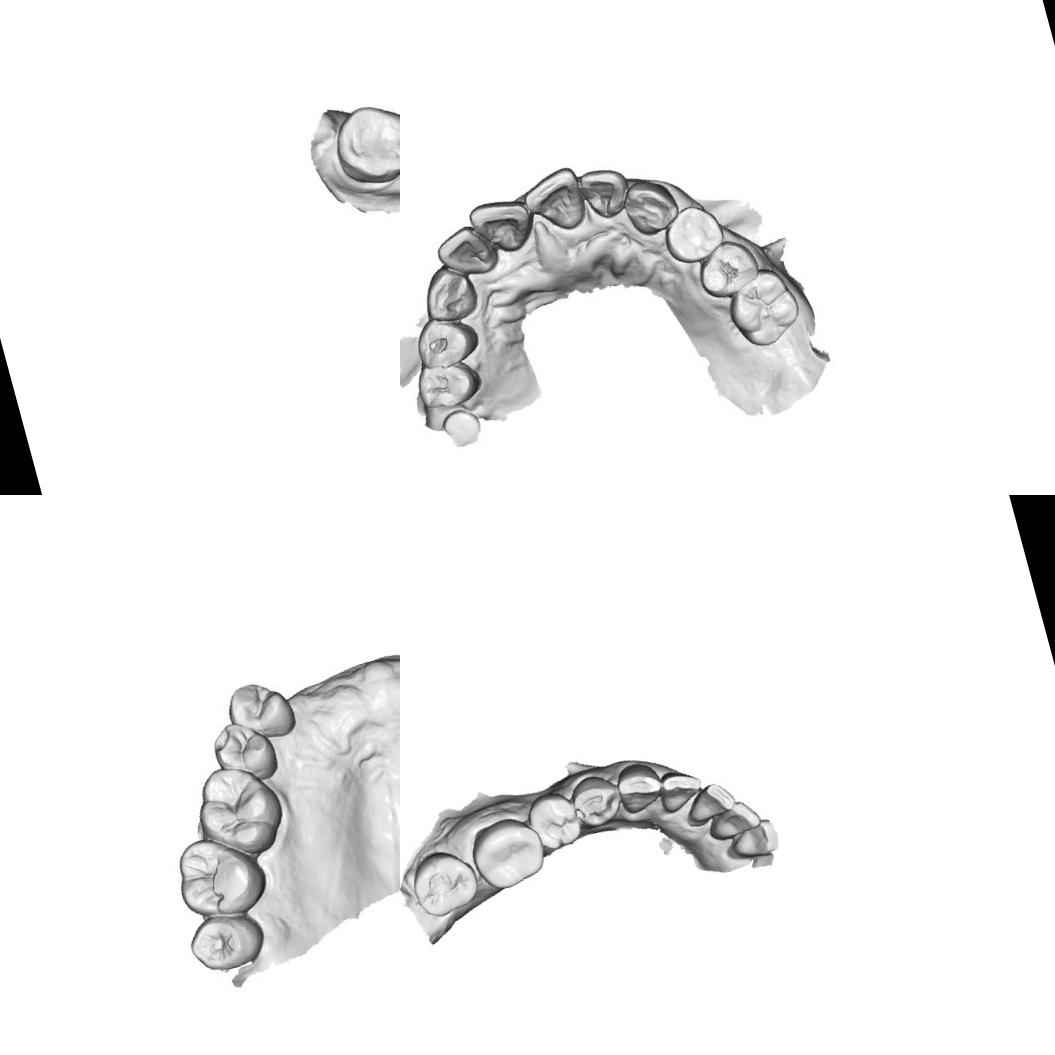canine: (414, 258, 483, 329), (617, 171, 684, 242), (610, 756, 667, 818)
incisor: (516, 162, 592, 240), (464, 190, 539, 262), (430, 219, 498, 286), (575, 160, 635, 224), (703, 793, 765, 843), (653, 762, 707, 816), (726, 814, 783, 864), (681, 777, 739, 826)
molar: (166, 822, 276, 925), (192, 758, 292, 859), (718, 260, 808, 355), (325, 92, 400, 193), (464, 809, 552, 895), (403, 841, 486, 923), (184, 905, 272, 980)
premolar: (207, 716, 283, 791), (688, 232, 766, 305), (223, 674, 298, 747), (656, 198, 730, 270), (408, 309, 484, 374), (410, 352, 486, 415), (521, 785, 585, 855), (564, 769, 626, 832)
